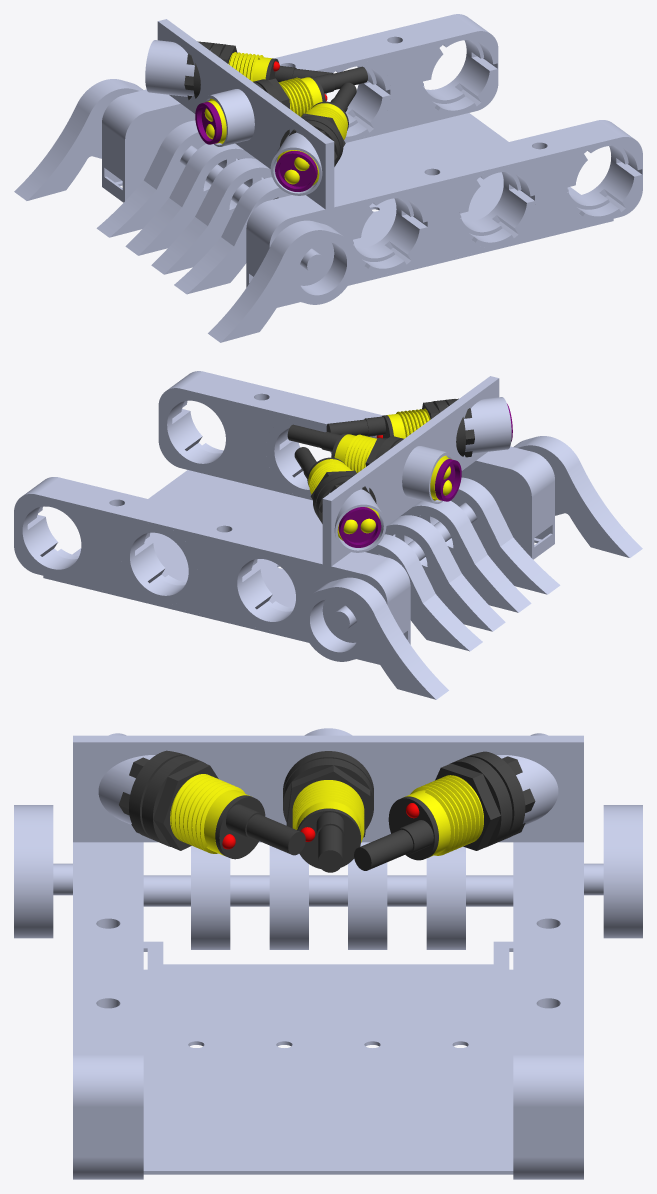
The model's file is sumo-2025.glb.
3 renders of one model, top to bottom at view 1: azimuth 30°, elevation 25°; view 2: azimuth 150°, elevation 25°; view 3: azimuth 270°, elevation 25°, orthographic. The views are drawn at different scales.
Parts seen in each view (by area): view 1: NAUO1; view 2: NAUO1; view 3: NAUO1.
Part boxes in pixels (x1,y1,x2,y2): NAUO1: [14, 14, 642, 342]; NAUO1: [14, 371, 642, 699]; NAUO1: [14, 728, 642, 1179].
Size of the model in its own units: 0.1977 by 0.066 by 0.16.
1 material, 1 textured.
